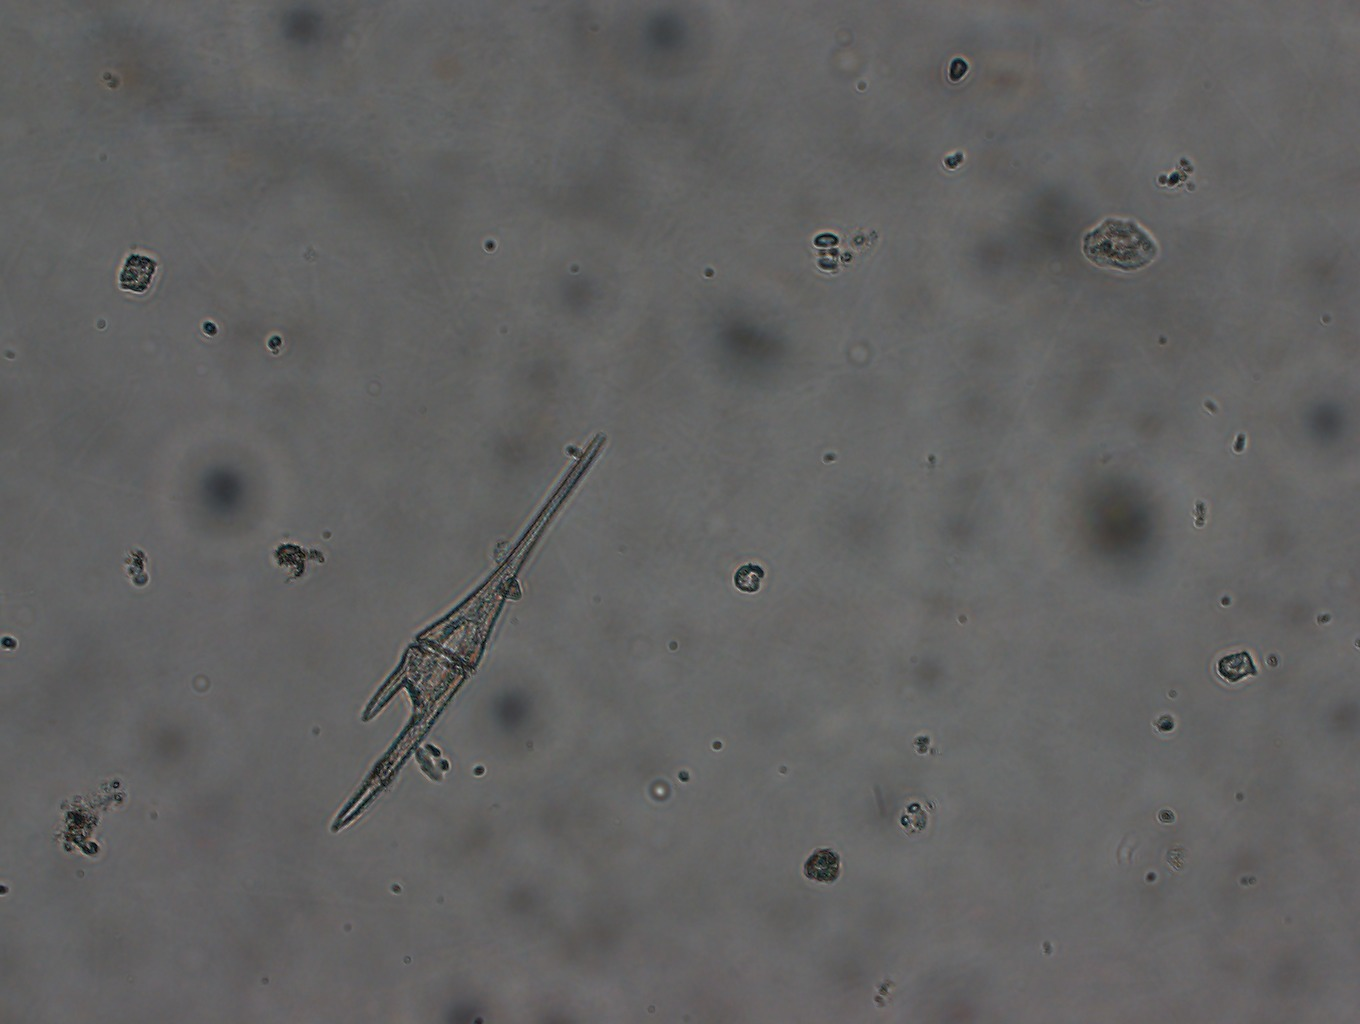ceratium furca: (325, 428, 611, 841)
